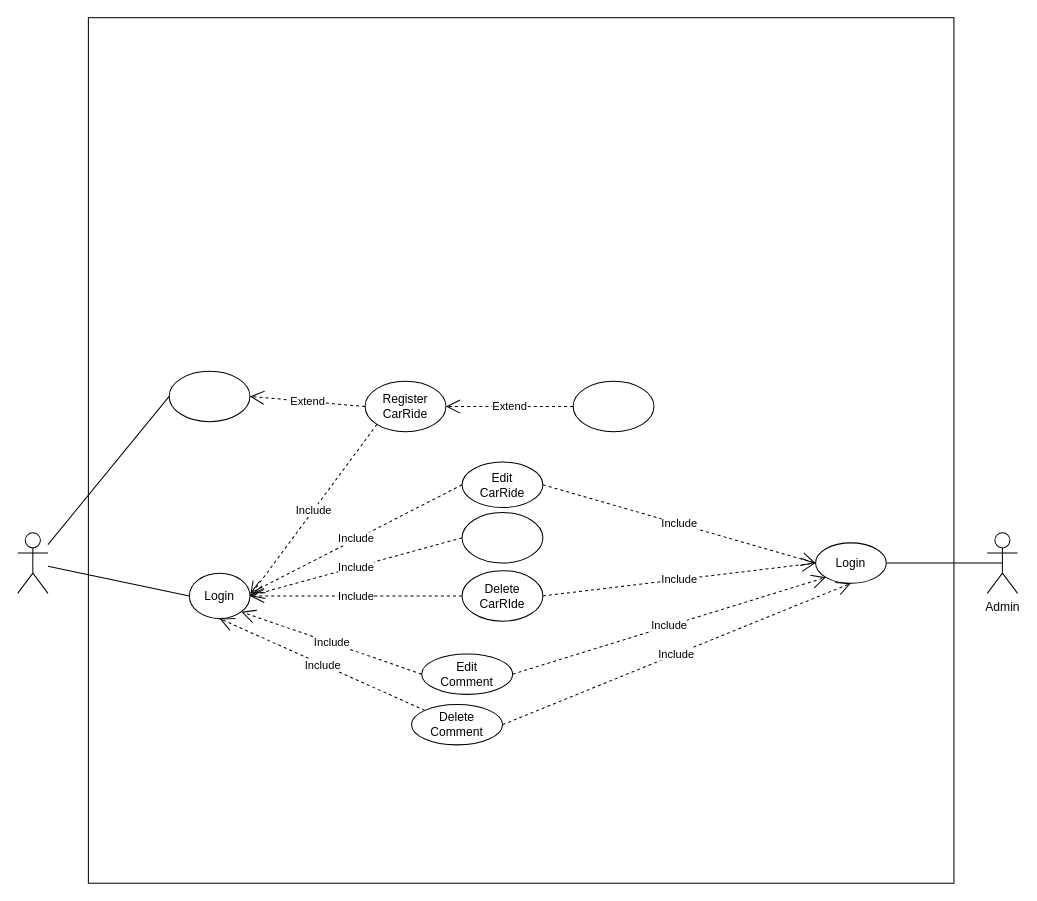
This 1037x901 diagram has some shape labels left out. Here are the shapes that lost their labels. From the top down, the box of each, then its label:
(168, 370, 250, 422): Search CarRide
(572, 380, 654, 432): Comment CarRIde
(461, 512, 543, 563): Create CarRide
(17, 532, 48, 593): User
